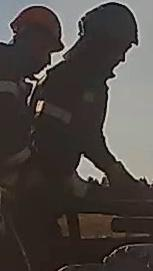gloves: (104, 163, 148, 193), (64, 174, 103, 202)
helmet: (10, 3, 65, 52)
vest: (26, 70, 111, 178), (0, 55, 37, 198)
